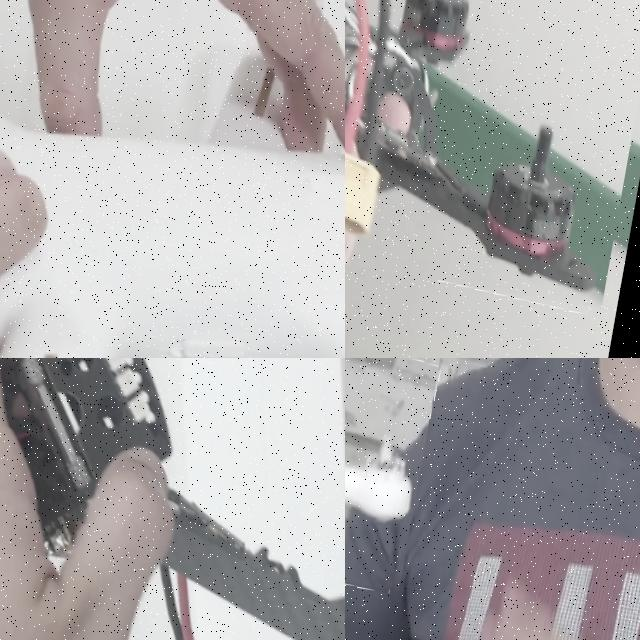drone: (0, 0, 345, 358), (0, 358, 345, 640), (345, 0, 640, 308), (345, 358, 444, 590)
